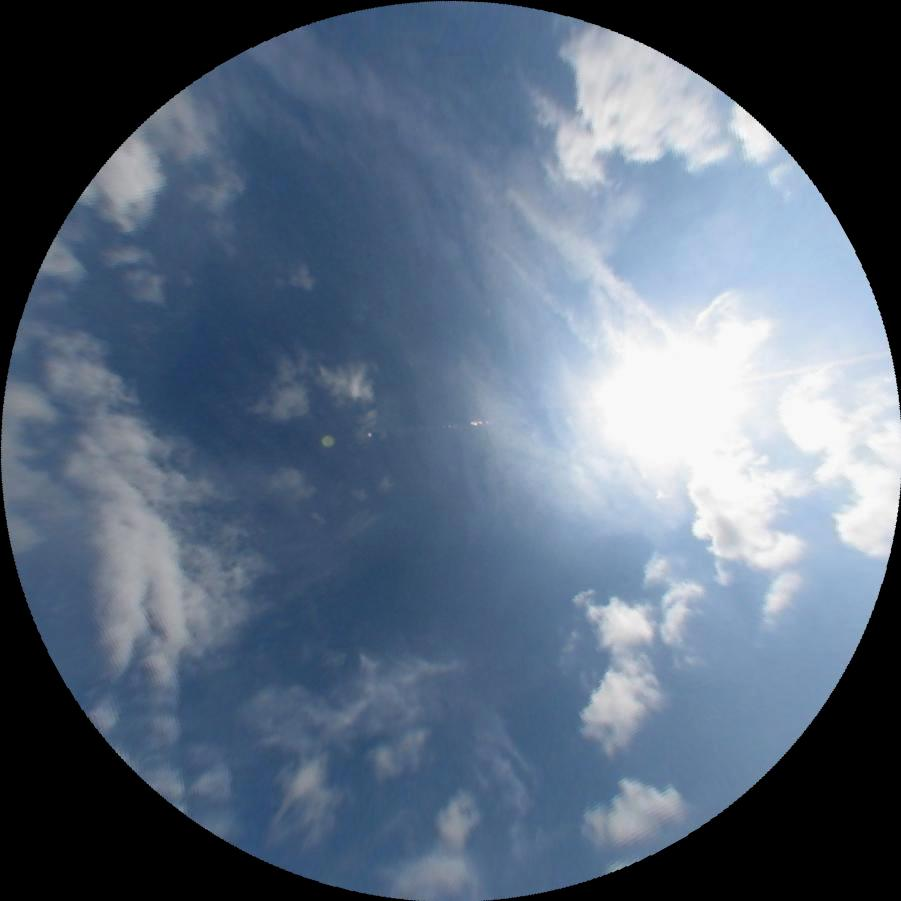contrail veryold: (242, 6, 713, 348), (490, 229, 621, 369)
parasite: (735, 345, 889, 385)
sun: (615, 348, 751, 456)
